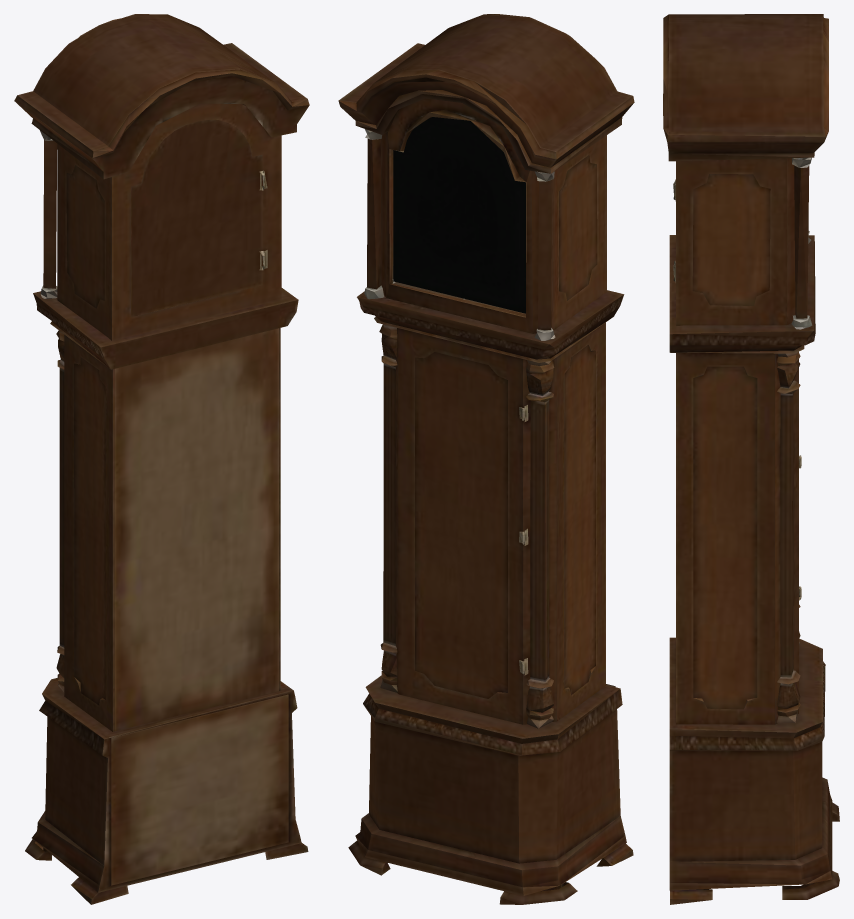
The model's file is clock-grandfather.lod1.glb.
3 views of the same model, side by side, from view 1: azimuth 30°, elevation 25°; view 2: azimuth 150°, elevation 25°; view 3: azimuth 270°, elevation 25° (orthographic).
Parts seen in each view (by area): view 1: clock-grandfather; view 2: clock-grandfather; view 3: clock-grandfather.
Part boxes in pixels (x1,y1,x2,y2): clock-grandfather: (14, 14, 309, 904); clock-grandfather: (338, 14, 634, 904); clock-grandfather: (663, 14, 839, 904).
Size of the model in its own units: 0.6173 by 2.19 by 0.4262.
Materials: 2 (2 with a texture image).
